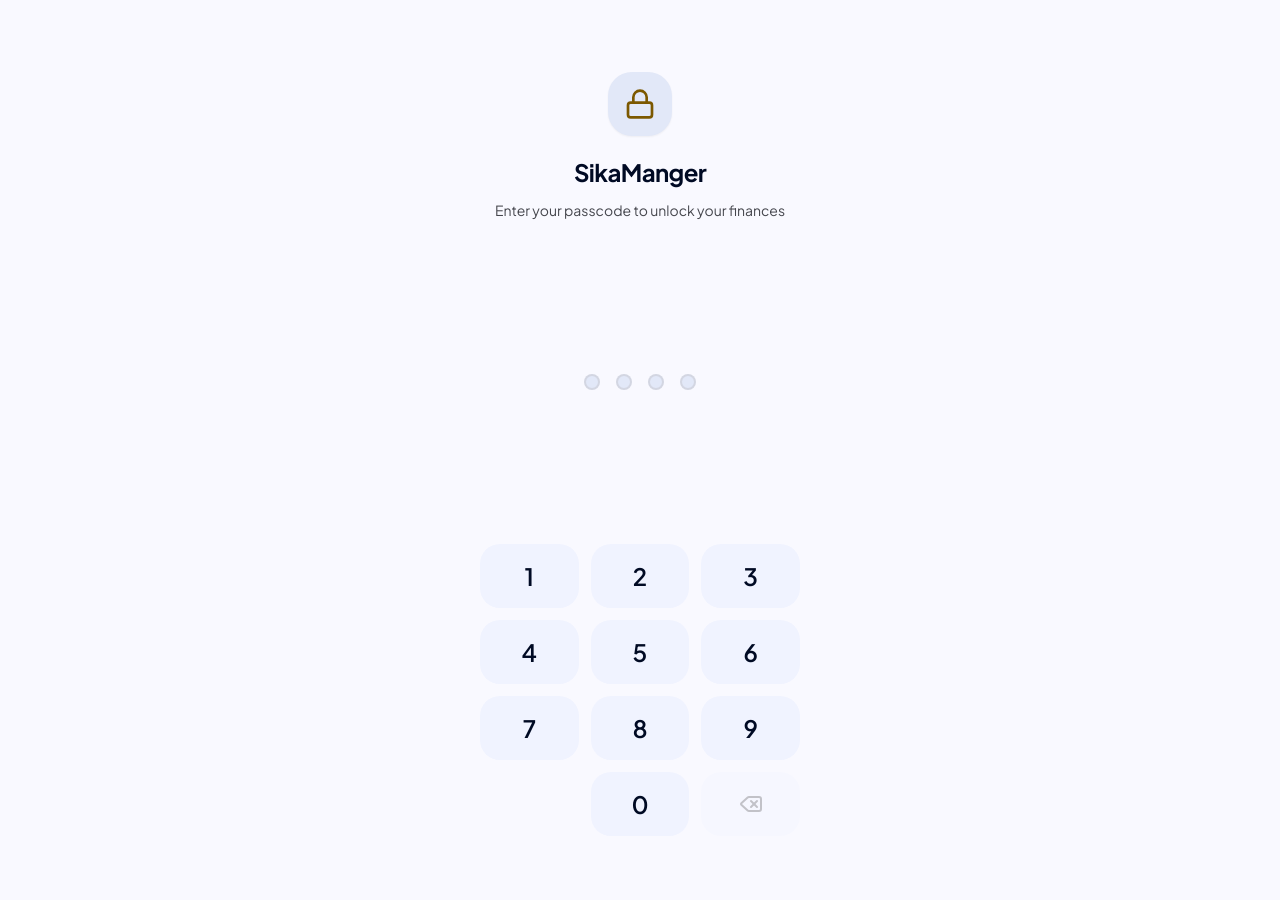
Test: Component: LockScreen & OnboardingFlow › LockScreen › displays error and remaining attempts on incorrect code
Click 9, 9, 9, 9
What coordinates should you click on to do the following:
click the button "9"
I would click on:
 (751, 728)
Its box is [701, 696, 800, 760].
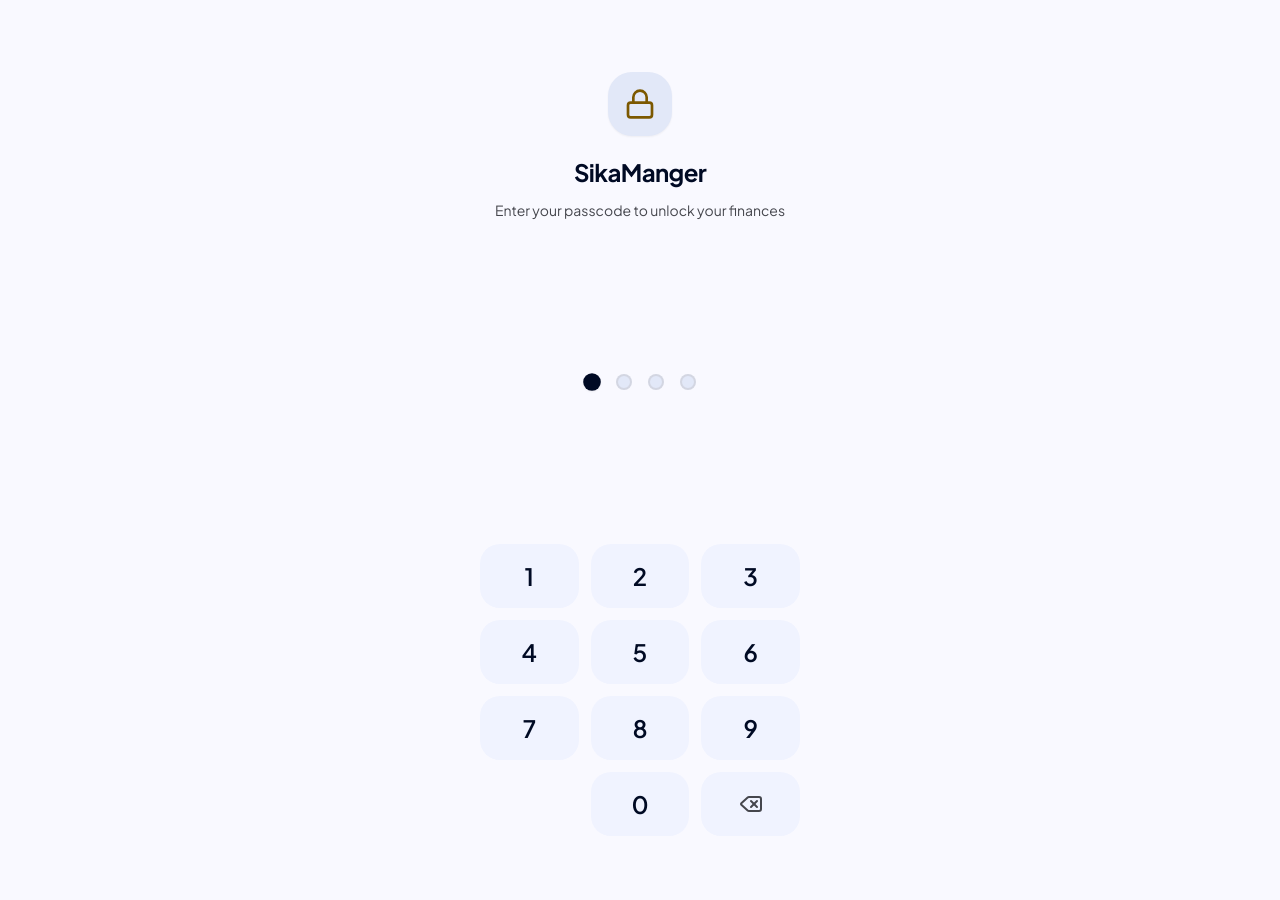
What coordinates should you click on to do the following:
click the button "9"
I would click on:
 (751, 728)
Its box is [701, 696, 800, 760].
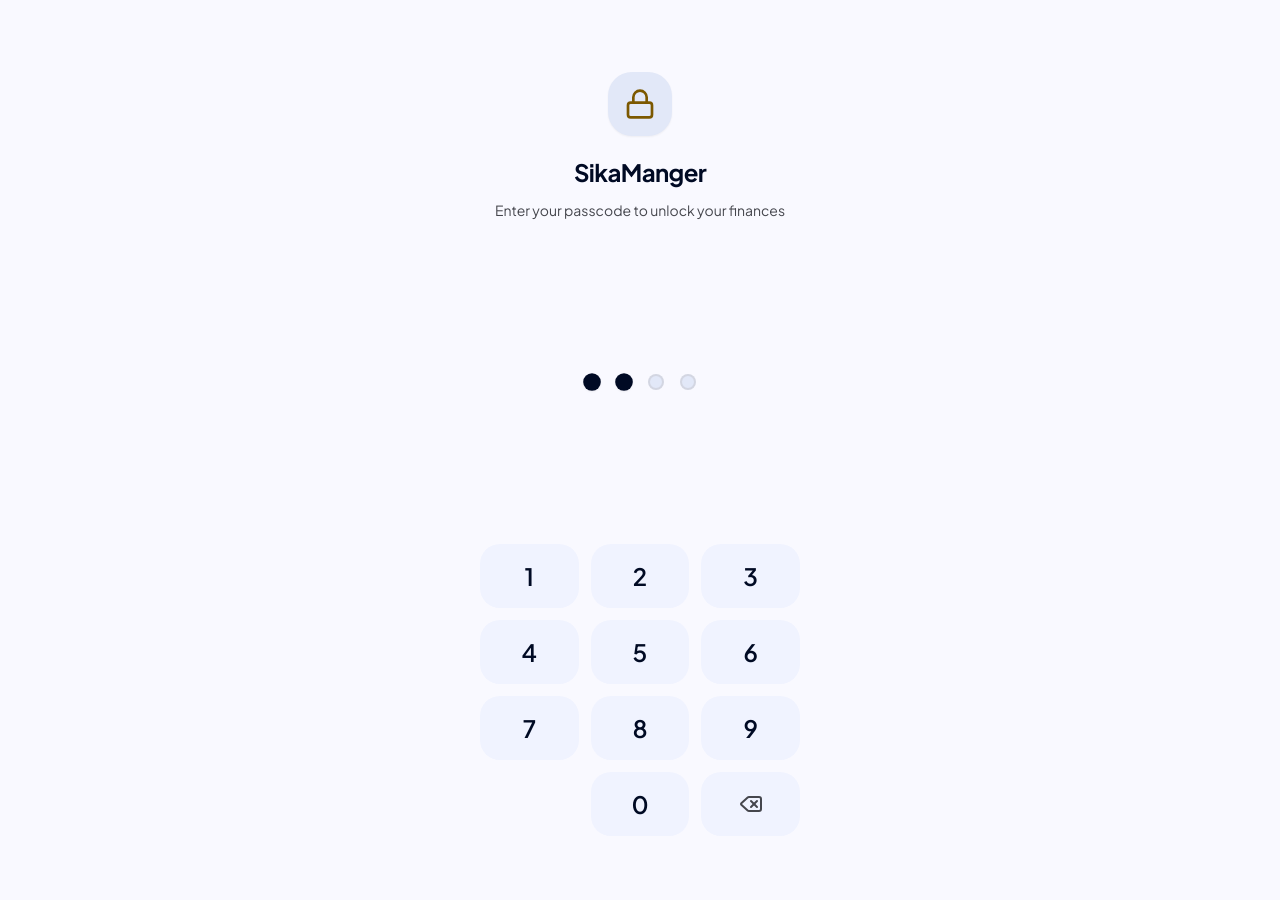
What coordinates should you click on to do the following:
click the button "9"
I would click on:
 (751, 728)
Its box is [701, 696, 800, 760].
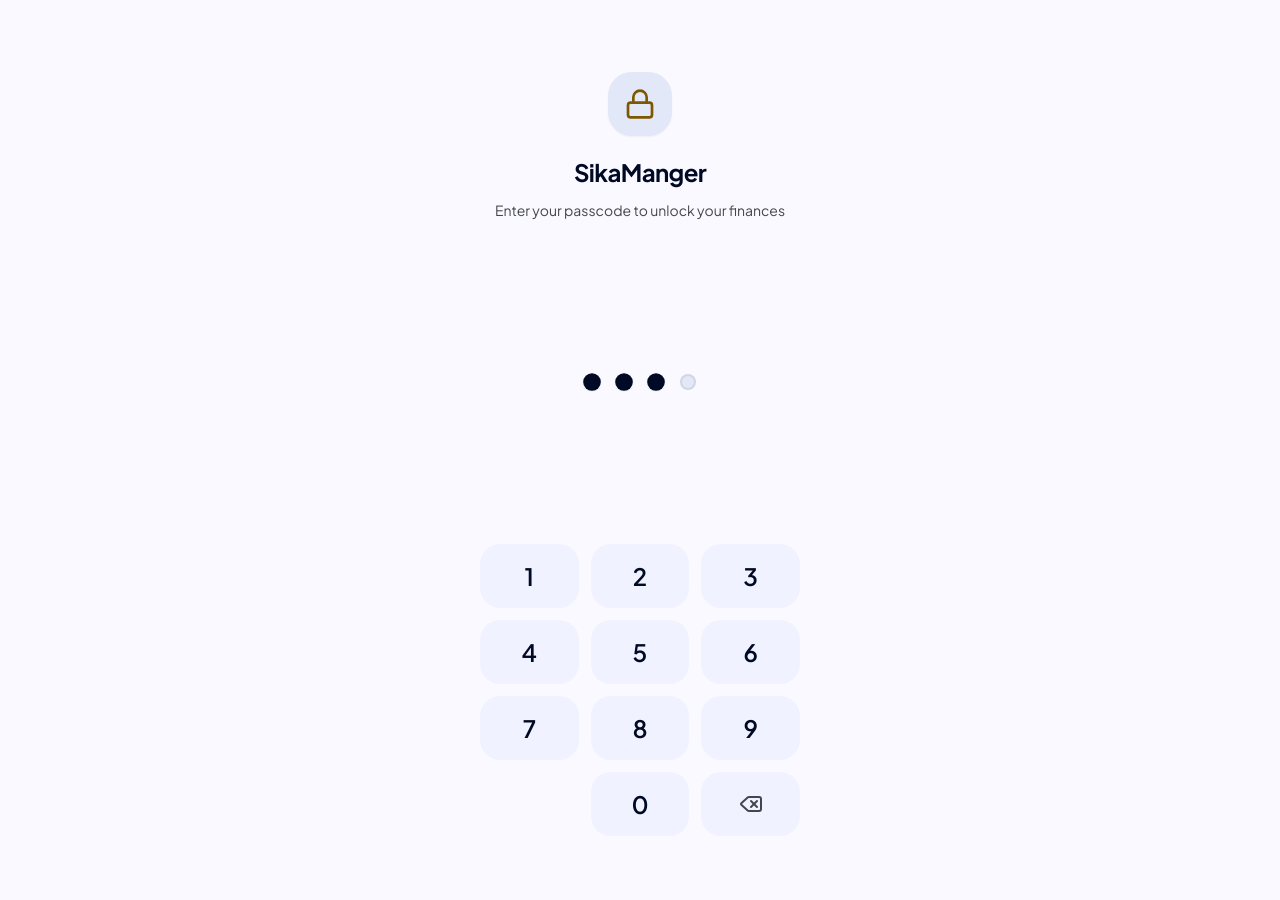
What coordinates should you click on to do the following:
click the button "9"
I would click on:
 (751, 728)
Its box is [701, 696, 800, 760].
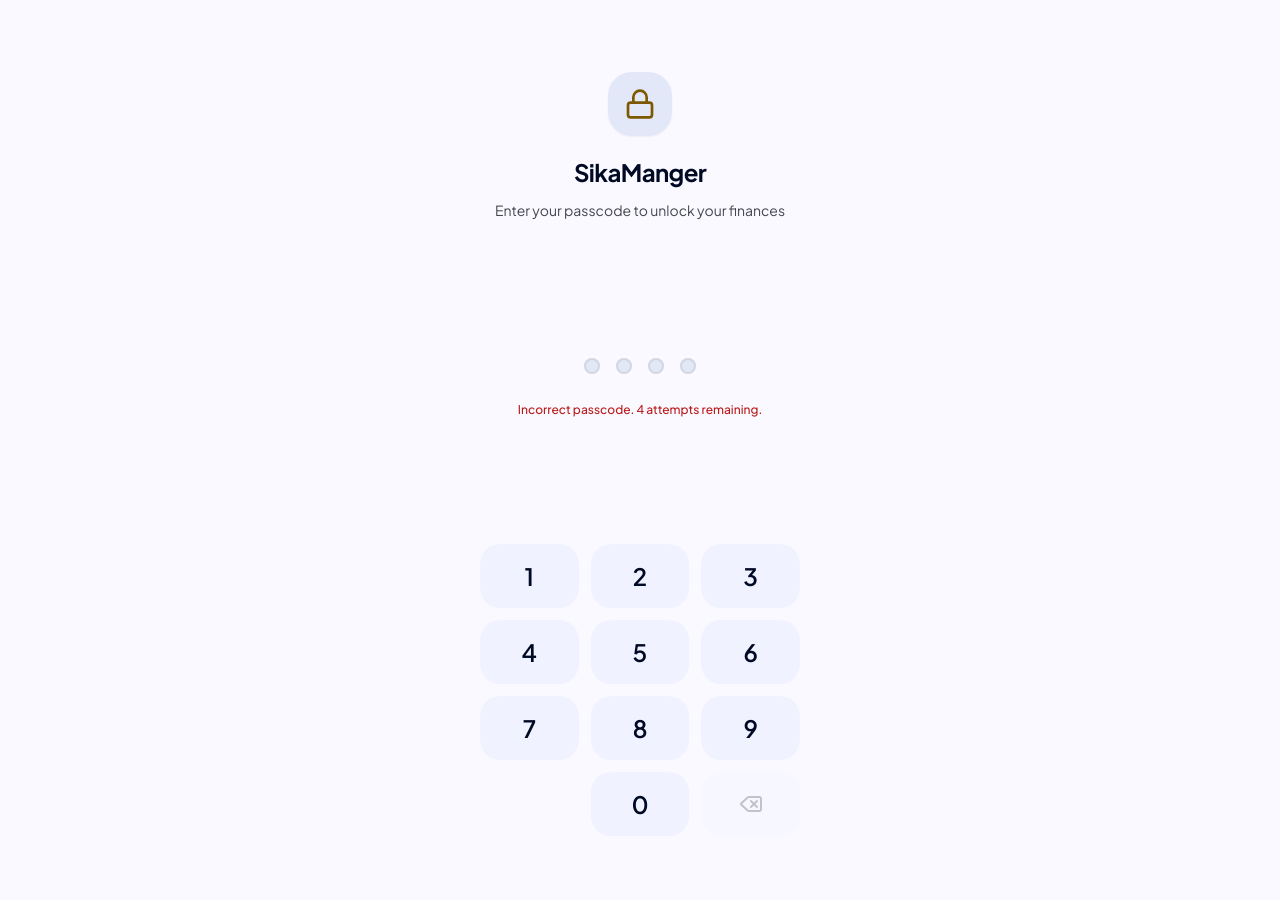
Result: the text "Incorrect passcode. 4 attempts remaining." is shown at [502, 402, 778, 418]
